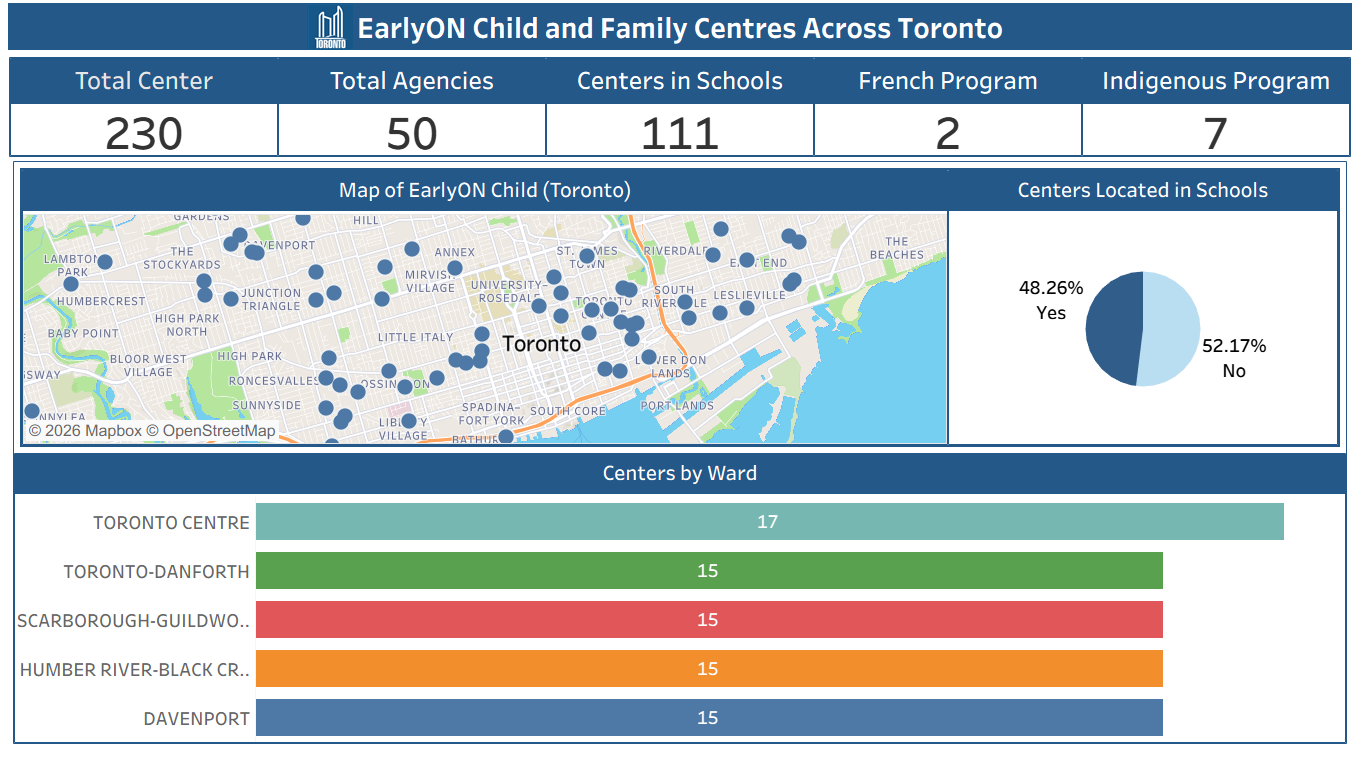

The dashboard page shown, as its layout file describes it:
{"tool":"tableau","page":{"name":"Dashboard 1","canvas":[1366,768],"ordinal":0},"visuals":[{"type":"text","box":[8,8,1350,53]},{"type":"image","param":"D:/Envision Learning/portfolio_projects/Tableau/2. EarlyOn Child/10600530.png","box":[310,11,47,55]},{"type":"worksheet","title":"Total Center","mark":"Automatic","box":[13,66,268,98]},{"type":"worksheet","title":"Total Agencies","mark":"Automatic","box":[281,66,268,98]},{"type":"worksheet","title":"Centers in Schools","mark":"Automatic","box":[549,66,268,98]},{"type":"worksheet","title":"French Program","mark":"Automatic","box":[817,66,268,98]},{"type":"worksheet","title":"Indigenous Program","mark":"Automatic","box":[1085,66,268,98]},{"type":"worksheet","title":"Map of EarlyON Child (Toronto)","mark":"Automatic","rows":["lat"],"cols":["lng"],"box":[19,172,926,286]},{"type":"worksheet","title":"Centers Located in Schools","mark":"Pie","box":[945,172,402,286]},{"type":"worksheet","title":"Centers by Ward","mark":"Automatic","rows":["ward_name"],"cols":["Calculation_1332930189565953"],"box":[16,461,1334,291]}]}

Visuals, with their boxes in screenshot pixels (x1, y1, x2, y2), scaled from the page's 1366x768 canvas onto the 1357x757 screenshot:
text: BBox(8, 8, 1349, 60)
image: BBox(308, 11, 355, 65)
"Total Center" worksheet: BBox(13, 65, 279, 162)
"Total Agencies" worksheet: BBox(279, 65, 545, 162)
"Centers in Schools" worksheet: BBox(545, 65, 812, 162)
"French Program" worksheet: BBox(812, 65, 1078, 162)
"Indigenous Program" worksheet: BBox(1078, 65, 1344, 162)
"Map of EarlyON Child (Toronto)" worksheet: BBox(19, 170, 939, 451)
"Centers Located in Schools" worksheet (Pie marks): BBox(939, 170, 1338, 451)
"Centers by Ward" worksheet: BBox(16, 454, 1341, 741)
